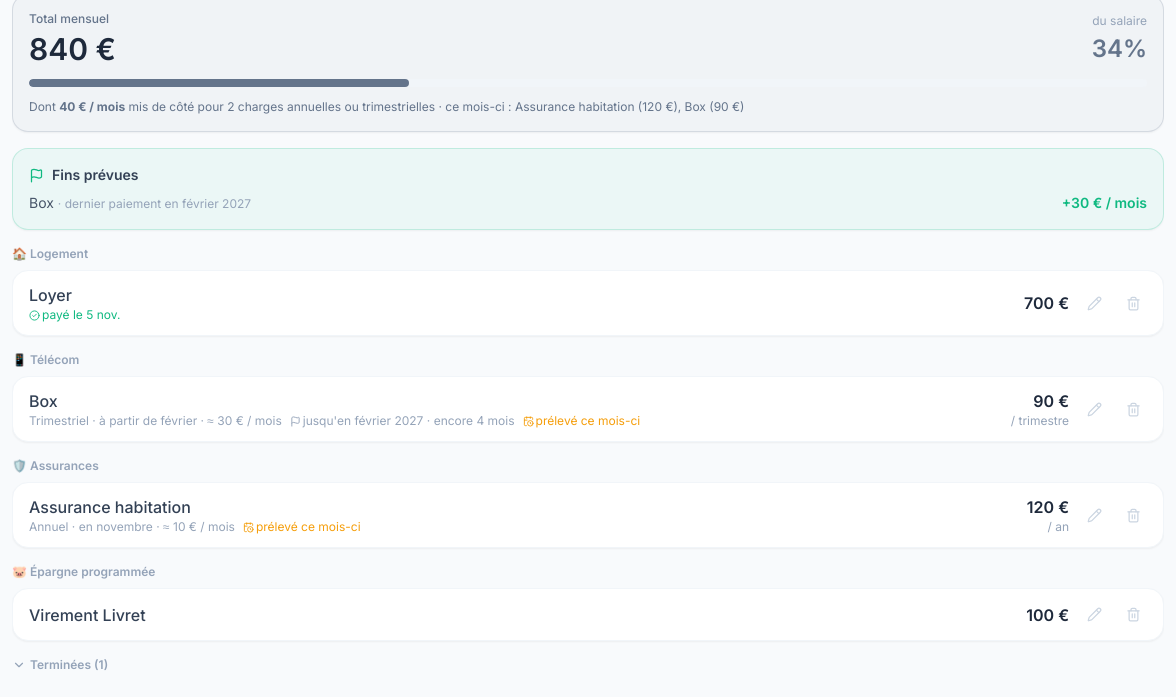
Test: Charges fixes › total mensuel, provisions, échéances, fins prévues, charges terminées
(page scrolled)
Expected: the text "840 €" is shown, [29,31,116,67]
Expected: the text "ce mois-ci : Assurance habitation" is shown, [29,99,744,114]
Click the button "Terminées (1)". click: [60, 665]
box: [12,657,108,673]
(page scrolled)
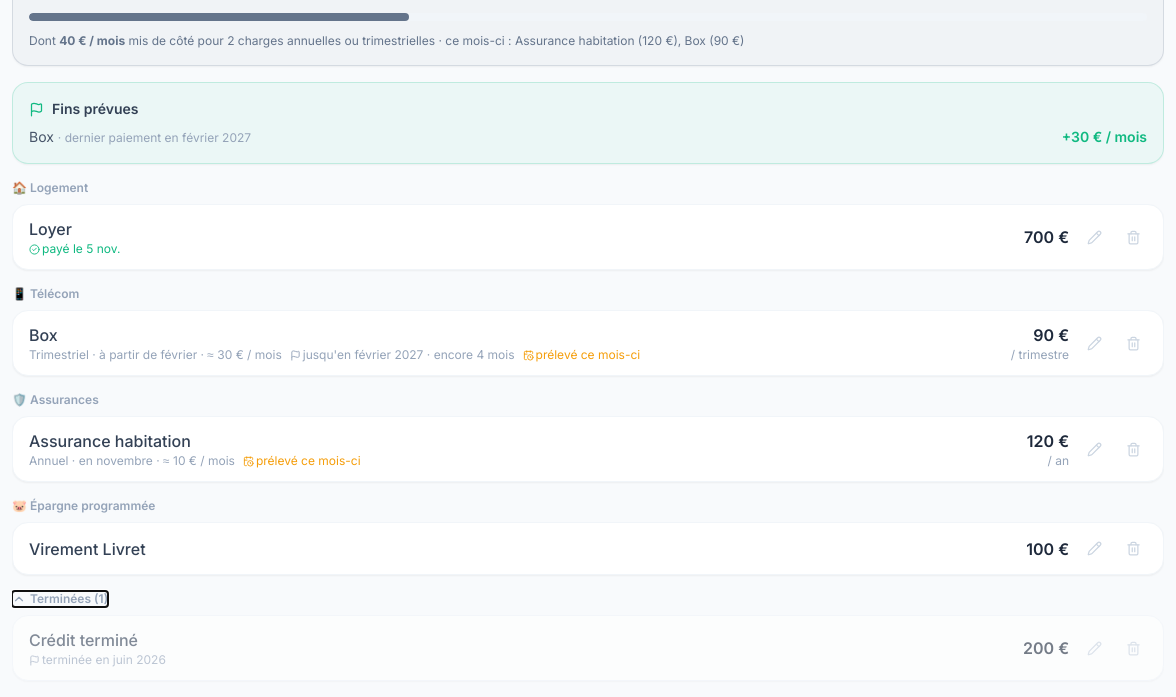
Now the text "terminée en juin 2026" is shown, box [29,652,166,668]
